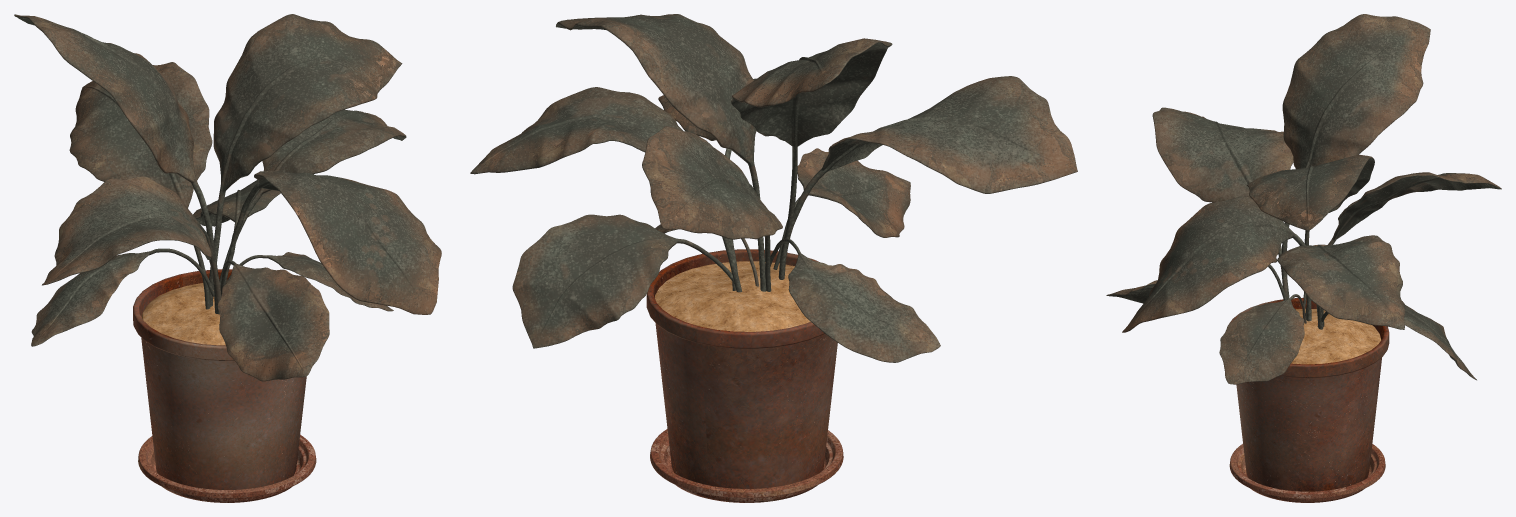
The model's file is dried_up_plant.glb.
3 renders of one model, left to right at view 1: azimuth 30°, elevation 25°; view 2: azimuth 150°, elevation 25°; view 3: azimuth 270°, elevation 25°, orthographic. The views are drawn at different scales.
Parts seen in each view (by area): view 1: leaf_001_mesh_n3d, leaf_005_mesh_n3d, pot_mesh_n3d, leaf_009_mesh_n3d, dirt_mesh_n3d, plate_mesh_n3d; view 2: leaf_001_mesh_n3d, pot_mesh_n3d, leaf_005_mesh_n3d, leaf_009_mesh_n3d, dirt_mesh_n3d, plate_mesh_n3d; view 3: leaf_005_mesh_n3d, leaf_001_mesh_n3d, leaf_009_mesh_n3d, pot_mesh_n3d, dirt_mesh_n3d, plate_mesh_n3d.
Boxes of the visible parts, box(x1,y1,x2,y2) form: leaf_001_mesh_n3d: box(42, 14, 402, 314); leaf_005_mesh_n3d: box(14, 14, 393, 381); pot_mesh_n3d: box(133, 269, 306, 489); leaf_009_mesh_n3d: box(219, 109, 441, 314); dirt_mesh_n3d: box(141, 283, 225, 345); plate_mesh_n3d: box(138, 434, 316, 502); leaf_001_mesh_n3d: box(512, 14, 1077, 348); pot_mesh_n3d: box(646, 249, 837, 488); leaf_005_mesh_n3d: box(655, 38, 940, 362); leaf_009_mesh_n3d: box(470, 78, 784, 292); dirt_mesh_n3d: box(655, 261, 810, 331); plate_mesh_n3d: box(650, 429, 843, 502); leaf_005_mesh_n3d: box(1106, 14, 1430, 384); leaf_001_mesh_n3d: box(1152, 107, 1501, 380); leaf_009_mesh_n3d: box(1122, 196, 1405, 332); pot_mesh_n3d: box(1229, 297, 1389, 491); dirt_mesh_n3d: box(1291, 308, 1381, 364); plate_mesh_n3d: box(1229, 444, 1385, 502).
Size of the model in its own units: 0.5075 by 0.4953 by 0.4466.
Materials: 4 (4 with a texture image).
